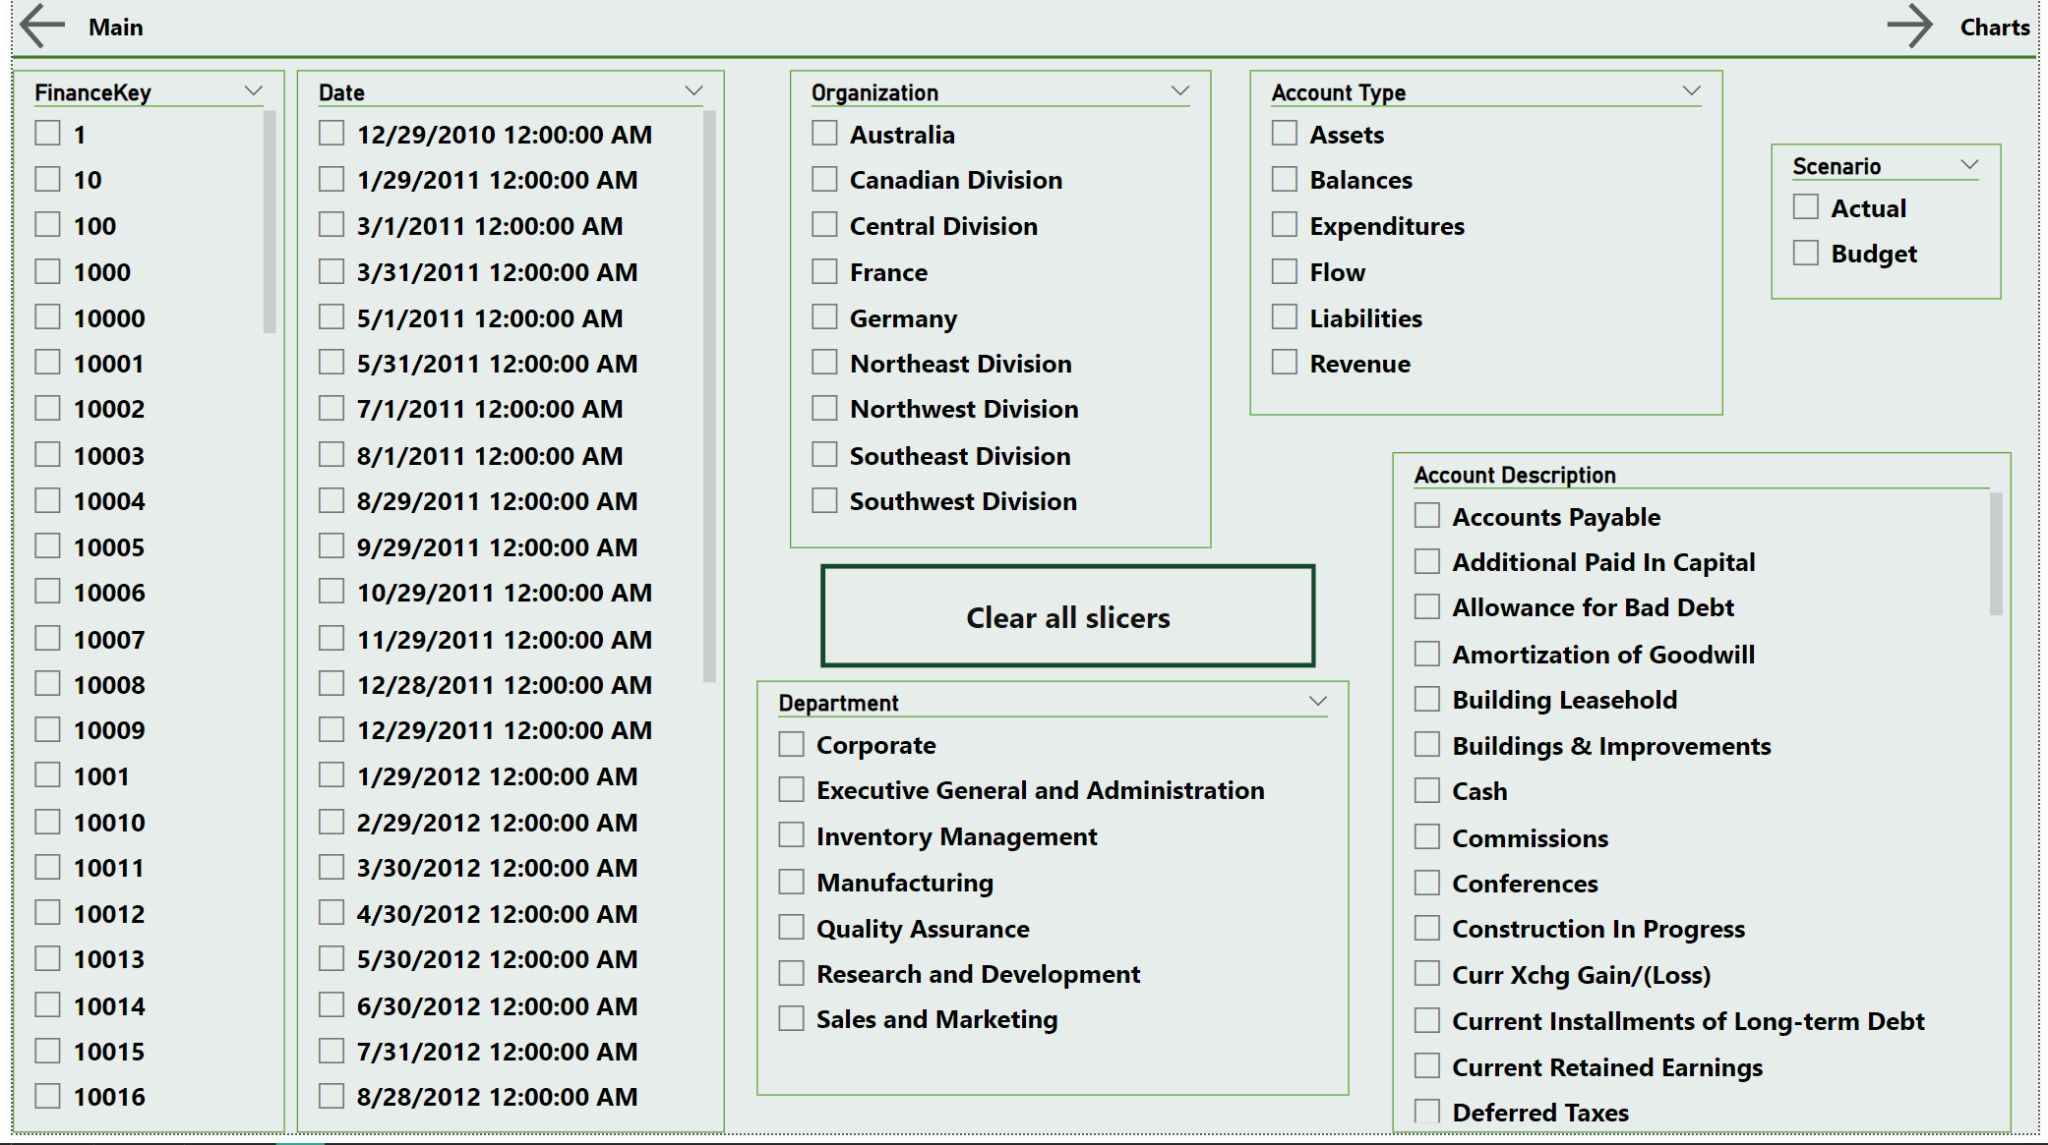

The page's visual inventory and layout, read from the dashboard file:
{"tool":"powerbi","page":{"name":"Filters","canvas":[1280,720],"ordinal":1},"visuals":[{"type":"shape","box":[0,15,1278.5,48.9],"z":0},{"type":"slicer","fields":{"Values":["DimAccount.AccountDescription"]},"box":[871.3,289.1,391.2,430.3],"z":1000},{"type":"slicer","fields":{"Values":["DimDepartmentGroup.DepartmentGroupName"]},"box":[470.1,433.6,374.6,262.5],"z":2000},{"type":"slicer","fields":{"Values":["FactFinance.FinanceKey"]},"box":[0,47.3,171.9,672],"z":3000},{"type":"slicer","fields":{"Values":["DimAccount.AccountType"]},"box":[781.6,47.3,299,218.5],"z":4000},{"type":"slicer","fields":{"Values":["DimOrganization.OrganizationName"]},"box":[490.9,47.3,266.6,302.4],"z":5000},{"type":"slicer","fields":{"Values":["DimScenario.ScenarioName"]},"box":[1110.6,93.9,145.4,98],"z":6000},{"type":"slicer","fields":{"Values":["FactFinance.Date"]},"box":[179.4,47.3,270.8,672],"z":7000},{"type":"actionButton","box":[1178.2,0,100.3,38.9],"z":8000},{"type":"actionButton","box":[0,0,86.5,38.9],"z":9000},{"type":"actionButton","box":[510,359.7,313.2,65.6],"z":10000}]}

Visuals, with their boxes in screenshot pixels (x1, y1, x2, y2), scaled from the page's 1280x720 canvas onto the 2048x1145 screenshot:
shape: (0,24,2046,102)
slicer - DimAccount.AccountDescription: (1394,460,2020,1144)
slicer - DimDepartmentGroup.DepartmentGroupName: (752,690,1352,1107)
slicer - FactFinance.FinanceKey: (0,75,275,1144)
slicer - DimAccount.AccountType: (1251,75,1729,423)
slicer - DimOrganization.OrganizationName: (785,75,1212,556)
slicer - DimScenario.ScenarioName: (1777,149,2010,305)
slicer - FactFinance.Date: (287,75,720,1144)
actionButton: (1885,0,2046,62)
actionButton: (0,0,138,62)
actionButton: (816,572,1317,676)
